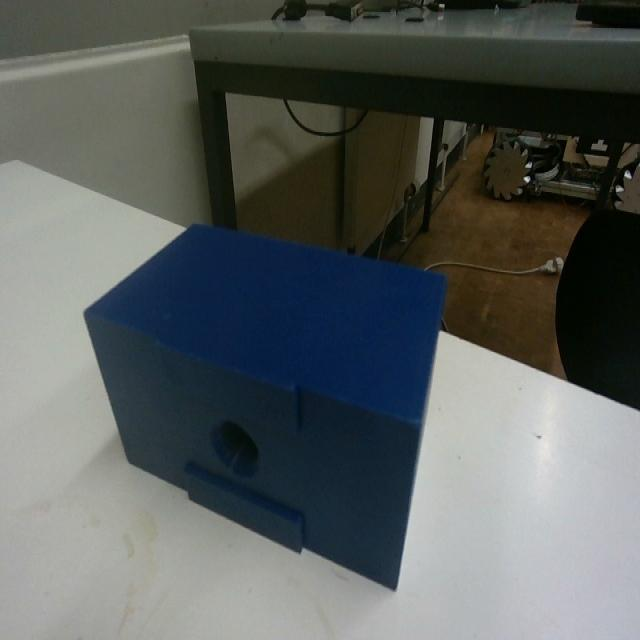Blue Cuboid: (81, 217, 448, 591)
